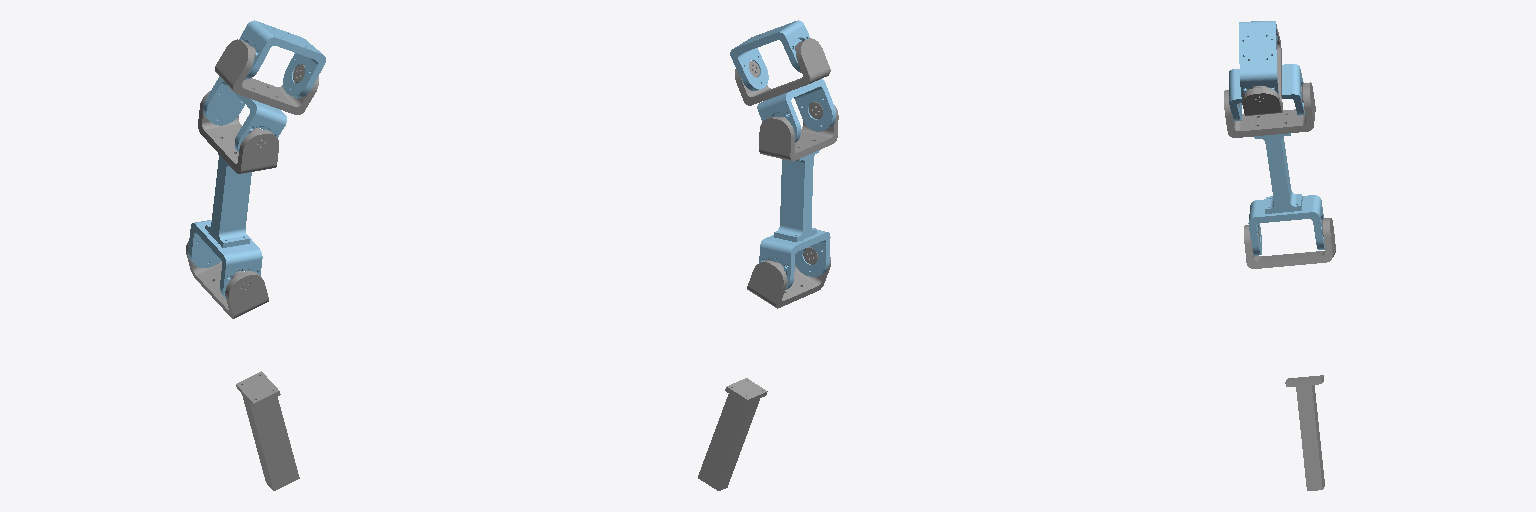
robot.urdf — oneleg:
<?xml version="1.0" ?>
<!-- Generated using onshape-to-robot -->
<!-- Onshape https://cad.onshape.com/documents/238e8faca9c7214bccace665/w/ac168b104948c1f839976186/e/2f2a8d3b7996e245e4f2fb79 -->
<robot name="oneleg">
  <!-- Link femur__limb_legnth_0_3_meter -->
  <link name="femur__limb_legnth_0_3_meter">
    <inertial>
      <origin xyz="0.212039 0.179547 -0.4088" rpy="0 0 0"/>
      <mass value="20.6028"/>
      <inertia ixx="5.99773" ixy="-0.0429494" ixz="0.377069" iyy="6.02908" iyz="0.742456" izz="0.354993"/>
    </inertial>
    <!-- Part femur__limb_legnth_0_4_meter -->
    <visual>
      <origin xyz="0.295515 0.273885 -1.14921" rpy="0.29544 0.125531 -1.62709"/>
      <geometry>
        <mesh filename="package://assets/femur__limb_legnth_0_4_meter.stl"/>
      </geometry>
      <material name="femur__limb_legnth_0_4_meter_material">
        <color rgba="0.615686 0.811765 0.929412 1"/>
      </material>
    </visual>
    <collision>
      <origin xyz="0.295515 0.273885 -1.14921" rpy="0.29544 0.125531 -1.62709"/>
      <geometry>
        <mesh filename="package://assets/femur__limb_legnth_0_4_meter.stl"/>
      </geometry>
    </collision>
    <!-- Part femur__limb_legnth_0_3_meter -->
    <visual>
      <origin xyz="0.144765 0.153867 -0.173383" rpy="3.09712 0.125531 -1.62709"/>
      <geometry>
        <mesh filename="package://assets/femur__limb_legnth_0_3_meter.stl"/>
      </geometry>
      <material name="femur__limb_legnth_0_3_meter_material">
        <color rgba="0.615686 0.811765 0.929412 1"/>
      </material>
    </visual>
    <collision>
      <origin xyz="0.144765 0.153867 -0.173383" rpy="3.09712 0.125531 -1.62709"/>
      <geometry>
        <mesh filename="package://assets/femur__limb_legnth_0_3_meter.stl"/>
      </geometry>
    </collision>
    <!-- Part toe__limb_legnth_0_4_meter -->
    <visual>
      <origin xyz="0.301464 0.275949 -1.16819" rpy="0.29544 0.125531 -1.62709"/>
      <geometry>
        <mesh filename="package://assets/toe__limb_legnth_0_4_meter.stl"/>
      </geometry>
      <material name="toe__limb_legnth_0_4_meter_material">
        <color rgba="0.647059 0.647059 0.647059 1"/>
      </material>
    </visual>
    <collision>
      <origin xyz="0.301464 0.275949 -1.16819" rpy="0.29544 0.125531 -1.62709"/>
      <geometry>
        <mesh filename="package://assets/toe__limb_legnth_0_4_meter.stl"/>
      </geometry>
    </collision>
    <!-- Part motor_model -->
    <visual>
      <origin xyz="0.12204 0.103826 -0.629949" rpy="1.44514 -0.0441242 3.09087"/>
      <geometry>
        <mesh filename="package://assets/motor_model.stl"/>
      </geometry>
      <material name="motor_model_material">
        <color rgba="0.615686 0.811765 0.929412 1"/>
      </material>
    </visual>
    <collision>
      <origin xyz="0.12204 0.103826 -0.629949" rpy="1.44514 -0.0441242 3.09087"/>
      <geometry>
        <mesh filename="package://assets/motor_model.stl"/>
      </geometry>
    </collision>
    <!-- Part moving_frame_r -->
    <visual>
      <origin xyz="0.0377543 0.212382 -0.560272" rpy="-1.27536 0.125531 -1.62709"/>
      <geometry>
        <mesh filename="package://assets/moving_frame_r.stl"/>
      </geometry>
      <material name="moving_frame_r_material">
        <color rgba="0.647059 0.647059 0.647059 1"/>
      </material>
    </visual>
    <collision>
      <origin xyz="0.0377543 0.212382 -0.560272" rpy="-1.27536 0.125531 -1.62709"/>
      <geometry>
        <mesh filename="package://assets/moving_frame_r.stl"/>
      </geometry>
    </collision>
    <!-- Part bearing__configuration_b6013 -->
    <visual>
      <origin xyz="0.121705 0.0978825 -0.6307" rpy="-1.69645 -0.0441242 3.09087"/>
      <geometry>
        <mesh filename="package://assets/bearing__configuration_b6013.stl"/>
      </geometry>
      <material name="bearing__configuration_b6013_material">
        <color rgba="0.647059 0.647059 0.647059 1"/>
      </material>
    </visual>
    <collision>
      <origin xyz="0.121705 0.0978825 -0.6307" rpy="-1.69645 -0.0441242 3.09087"/>
      <geometry>
        <mesh filename="package://assets/bearing__configuration_b6013.stl"/>
      </geometry>
    </collision>
    <!-- Part moving_frame_l -->
    <visual>
      <origin xyz="0.0377431 0.212184 -0.560297" rpy="-1.27536 0.125531 -1.62709"/>
      <geometry>
        <mesh filename="package://assets/moving_frame_l.stl"/>
      </geometry>
      <material name="moving_frame_l_material">
        <color rgba="0.647059 0.647059 0.647059 1"/>
      </material>
    </visual>
    <collision>
      <origin xyz="0.0377431 0.212184 -0.560297" rpy="-1.27536 0.125531 -1.62709"/>
      <geometry>
        <mesh filename="package://assets/moving_frame_l.stl"/>
      </geometry>
    </collision>
    <!-- Part motor_holder -->
    <visual>
      <origin xyz="0.200899 0.19707 -0.540223" rpy="-1.52632 -0.125531 1.5145"/>
      <geometry>
        <mesh filename="package://assets/motor_holder.stl"/>
      </geometry>
      <material name="motor_holder_material">
        <color rgba="0.615686 0.811765 0.929412 1"/>
      </material>
    </visual>
    <collision>
      <origin xyz="0.200899 0.19707 -0.540223" rpy="-1.52632 -0.125531 1.5145"/>
      <geometry>
        <mesh filename="package://assets/motor_holder.stl"/>
      </geometry>
    </collision>
    <!-- Part bearing__configuration_b6013_2 -->
    <visual>
      <origin xyz="0.135604 0.344532 -0.599525" rpy="-1.69645 -0.0441242 3.09087"/>
      <geometry>
        <mesh filename="package://assets/bearing__configuration_b6013.stl"/>
      </geometry>
      <material name="bearing__configuration_b6013_2_material">
        <color rgba="0.647059 0.647059 0.647059 1"/>
      </material>
    </visual>
    <collision>
      <origin xyz="0.135604 0.344532 -0.599525" rpy="-1.69645 -0.0441242 3.09087"/>
      <geometry>
        <mesh filename="package://assets/bearing__configuration_b6013.stl"/>
      </geometry>
    </collision>
    <!-- Part motor_model_2 -->
    <visual>
      <origin xyz="0.14294 0.0279366 -0.066409" rpy="1.42548 -0.526363 -3.12449"/>
      <geometry>
        <mesh filename="package://assets/motor_model.stl"/>
      </geometry>
      <material name="motor_model_2_material">
        <color rgba="0.615686 0.811765 0.929412 1"/>
      </material>
    </visual>
    <collision>
      <origin xyz="0.14294 0.0279366 -0.066409" rpy="1.42548 -0.526363 -3.12449"/>
      <geometry>
        <mesh filename="package://assets/motor_model.stl"/>
      </geometry>
    </collision>
    <!-- Part moving_frame_r_2 -->
    <visual>
      <origin xyz="0.0823125 0.131789 0.0299369" rpy="-1.61527 0.125531 -1.62709"/>
      <geometry>
        <mesh filename="package://assets/moving_frame_r.stl"/>
      </geometry>
      <material name="moving_frame_r_2_material">
        <color rgba="0.647059 0.647059 0.647059 1"/>
      </material>
    </visual>
    <collision>
      <origin xyz="0.0823125 0.131789 0.0299369" rpy="-1.61527 0.125531 -1.62709"/>
      <geometry>
        <mesh filename="package://assets/moving_frame_r.stl"/>
      </geometry>
    </collision>
    <!-- Part bearing__configuration_b6013_3 -->
    <visual>
      <origin xyz="0.142605 0.0219933 -0.0671603" rpy="-1.71611 -0.526363 -3.12449"/>
      <geometry>
        <mesh filename="package://assets/bearing__configuration_b6013.stl"/>
      </geometry>
      <material name="bearing__configuration_b6013_3_material">
        <color rgba="0.647059 0.647059 0.647059 1"/>
      </material>
    </visual>
    <collision>
      <origin xyz="0.142605 0.0219933 -0.0671603" rpy="-1.71611 -0.526363 -3.12449"/>
      <geometry>
        <mesh filename="package://assets/bearing__configuration_b6013.stl"/>
      </geometry>
    </collision>
    <!-- Part moving_frame_l_2 -->
    <visual>
      <origin xyz="0.0823013 0.13159 0.0299119" rpy="-1.61527 0.125531 -1.62709"/>
      <geometry>
        <mesh filename="package://assets/moving_frame_l.stl"/>
      </geometry>
      <material name="moving_frame_l_2_material">
        <color rgba="0.647059 0.647059 0.647059 1"/>
      </material>
    </visual>
    <collision>
      <origin xyz="0.0823013 0.13159 0.0299119" rpy="-1.61527 0.125531 -1.62709"/>
      <geometry>
        <mesh filename="package://assets/moving_frame_l.stl"/>
      </geometry>
    </collision>
    <!-- Part motor_holder_2 -->
    <visual>
      <origin xyz="0.249444 0.125049 -0.0196125" rpy="-1.03982 -0.125531 1.5145"/>
      <geometry>
        <mesh filename="package://assets/motor_holder.stl"/>
      </geometry>
      <material name="motor_holder_2_material">
        <color rgba="0.615686 0.811765 0.929412 1"/>
      </material>
    </visual>
    <collision>
      <origin xyz="0.249444 0.125049 -0.0196125" rpy="-1.03982 -0.125531 1.5145"/>
      <geometry>
        <mesh filename="package://assets/motor_holder.stl"/>
      </geometry>
    </collision>
    <!-- Part bearing__configuration_b6013_4 -->
    <visual>
      <origin xyz="0.156504 0.268643 -0.035985" rpy="-1.71611 -0.526363 -3.12449"/>
      <geometry>
        <mesh filename="package://assets/bearing__configuration_b6013.stl"/>
      </geometry>
      <material name="bearing__configuration_b6013_4_material">
        <color rgba="0.647059 0.647059 0.647059 1"/>
      </material>
    </visual>
    <collision>
      <origin xyz="0.156504 0.268643 -0.035985" rpy="-1.71611 -0.526363 -3.12449"/>
      <geometry>
        <mesh filename="package://assets/bearing__configuration_b6013.stl"/>
      </geometry>
    </collision>
    <!-- Part motor_model_3 -->
    <visual>
      <origin xyz="0.359695 0.105196 0.0870166" rpy="1.0437 0.0501823 -1.58288"/>
      <geometry>
        <mesh filename="package://assets/motor_model.stl"/>
      </geometry>
      <material name="motor_model_3_material">
        <color rgba="0.615686 0.811765 0.929412 1"/>
      </material>
    </visual>
    <collision>
      <origin xyz="0.359695 0.105196 0.0870166" rpy="1.0437 0.0501823 -1.58288"/>
      <geometry>
        <mesh filename="package://assets/motor_model.stl"/>
      </geometry>
    </collision>
    <!-- Part moving_frame_r_3 -->
    <visual>
      <origin xyz="0.299311 0.023305 0.202736" rpy="-1.42548 0.526363 0.0170982"/>
      <geometry>
        <mesh filename="package://assets/moving_frame_r.stl"/>
      </geometry>
      <material name="moving_frame_r_3_material">
        <color rgba="0.647059 0.647059 0.647059 1"/>
      </material>
    </visual>
    <collision>
      <origin xyz="0.299311 0.023305 0.202736" rpy="-1.42548 0.526363 0.0170982"/>
      <geometry>
        <mesh filename="package://assets/moving_frame_r.stl"/>
      </geometry>
    </collision>
    <!-- Part bearing__configuration_b6013_5 -->
    <visual>
      <origin xyz="0.364882 0.105284 0.0840022" rpy="-2.09789 0.0501823 -1.58288"/>
      <geometry>
        <mesh filename="package://assets/bearing__configuration_b6013.stl"/>
      </geometry>
      <material name="bearing__configuration_b6013_5_material">
        <color rgba="0.647059 0.647059 0.647059 1"/>
      </material>
    </visual>
    <collision>
      <origin xyz="0.364882 0.105284 0.0840022" rpy="-2.09789 0.0501823 -1.58288"/>
      <geometry>
        <mesh filename="package://assets/bearing__configuration_b6013.stl"/>
      </geometry>
    </collision>
    <!-- Part moving_frame_l_3 -->
    <visual>
      <origin xyz="0.299484 0.0233079 0.202636" rpy="-1.42548 0.526363 0.0170982"/>
      <geometry>
        <mesh filename="package://assets/moving_frame_l.stl"/>
      </geometry>
      <material name="moving_frame_l_3_material">
        <color rgba="0.647059 0.647059 0.647059 1"/>
      </material>
    </visual>
    <collision>
      <origin xyz="0.299484 0.0233079 0.202636" rpy="-1.42548 0.526363 0.0170982"/>
      <geometry>
        <mesh filename="package://assets/moving_frame_l.stl"/>
      </geometry>
    </collision>
    <!-- Part motor_holder_3 -->
    <visual>
      <origin xyz="0.30737 0.169552 0.213841" rpy="-1.62884 -0.526363 -3.12449"/>
      <geometry>
        <mesh filename="package://assets/motor_holder.stl"/>
      </geometry>
      <material name="motor_holder_3_material">
        <color rgba="0.615686 0.811765 0.929412 1"/>
      </material>
    </visual>
    <collision>
      <origin xyz="0.30737 0.169552 0.213841" rpy="-1.62884 -0.526363 -3.12449"/>
      <geometry>
        <mesh filename="package://assets/motor_holder.stl"/>
      </geometry>
    </collision>
    <!-- Part bearing__configuration_b6013_6 -->
    <visual>
      <origin xyz="0.149618 0.101604 0.209098" rpy="-2.09789 0.0501823 -1.58288"/>
      <geometry>
        <mesh filename="package://assets/bearing__configuration_b6013.stl"/>
      </geometry>
      <material name="bearing__configuration_b6013_6_material">
        <color rgba="0.647059 0.647059 0.647059 1"/>
      </material>
    </visual>
    <collision>
      <origin xyz="0.149618 0.101604 0.209098" rpy="-2.09789 0.0501823 -1.58288"/>
      <geometry>
        <mesh filename="package://assets/bearing__configuration_b6013.stl"/>
      </geometry>
    </collision>
  </link>
</robot>

--- Facts derived from the render (not from the file) ---
Views: 3 orthographic renders of the robot side by side, from view 1: azimuth 30°, elevation 25°; view 2: azimuth 150°, elevation 25°; view 3: azimuth 270°, elevation 25°.
Model oneleg with 1 links and 0 joints (none), rooted at femur__limb_legnth_0_3_meter, posed every joint at zero.
Links seen in each view (by area): view 1: femur__limb_legnth_0_3_meter; view 2: femur__limb_legnth_0_3_meter; view 3: femur__limb_legnth_0_3_meter.
Boxes of the visible links, <box> form: femur__limb_legnth_0_3_meter: <box>186,20,325,490</box>; femur__limb_legnth_0_3_meter: <box>698,20,838,490</box>; femur__limb_legnth_0_3_meter: <box>1224,21,1335,490</box>.
Bounding box of the posed robot: 0.4206 × 0.4218 × 1.86 m (x, y, z).
11 mesh visuals loaded from 8 distinct referenced files (5 binary STL); not drawn: 10 (reference not matched to a file when rendering).
